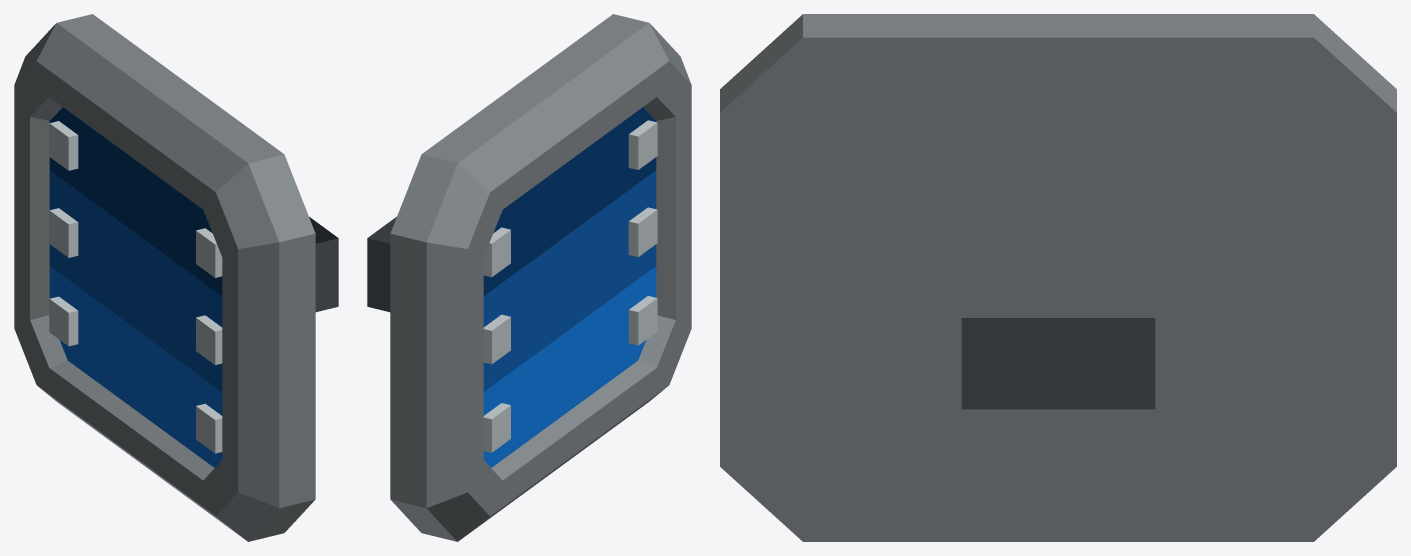
The model's file is Shield 03.FBX.
The picture shows the model from 3 angles, left to right: view 1: azimuth 30°, elevation 25°; view 2: azimuth 150°, elevation 25°; view 3: azimuth 270°, elevation 25°; orthographic projection. The views are drawn at different scales.
Parts seen in each view (by area): view 1: Shield 03; view 2: Shield 03; view 3: Shield 03.
Part boxes in pixels (<box>): Shield 03: <box>14,14,338,541</box>; Shield 03: <box>367,14,691,541</box>; Shield 03: <box>720,14,1396,541</box>.
Bounding box in the file's own units: 24.85 × 51.08 × 62.1.
1 material, 1 textured.
